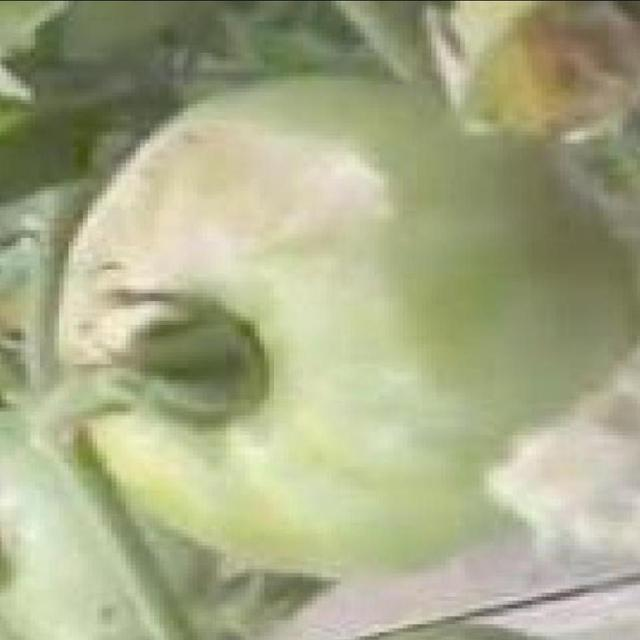Sunscald Fruit: (51, 74, 286, 237)
